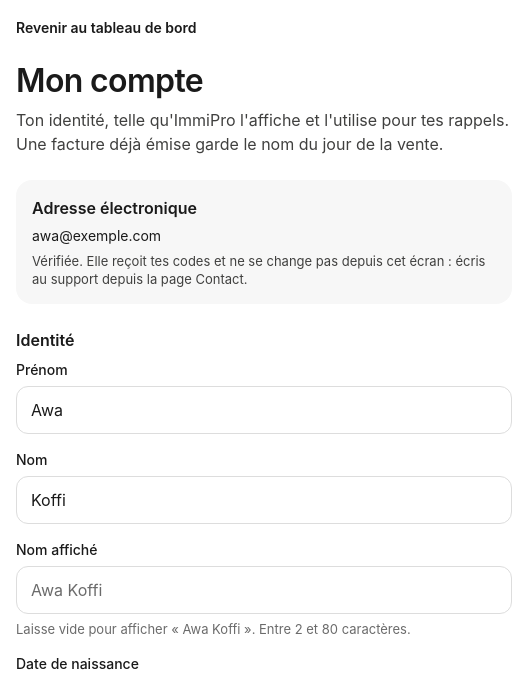
Test: Mon compte › un nom affiché d'un caractère est refusé sous le champ, rien ne part
This screenshot has width=529, height=678.
Type "A" into the field labelled "Nom affiché" at {"x": 264, "y": 590}, box [16,566,512,614]
(page scrolled)
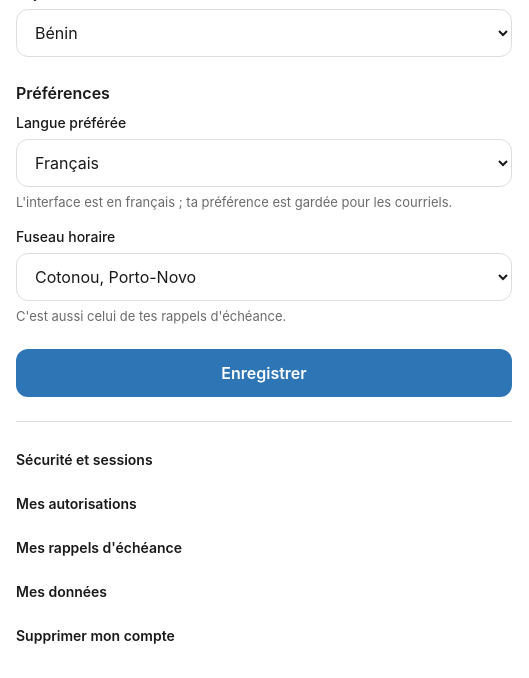
Click the button "Enregistrer" at {"x": 264, "y": 373}, box [16,349,512,397]
(page scrolled)
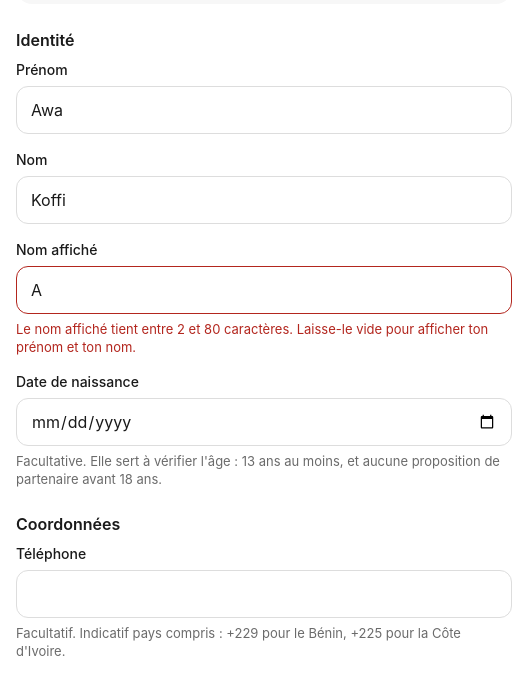
Check: the text "Le nom affiché tient entre 2 et 80 caractères" is shown, box [16,321,488,355]
